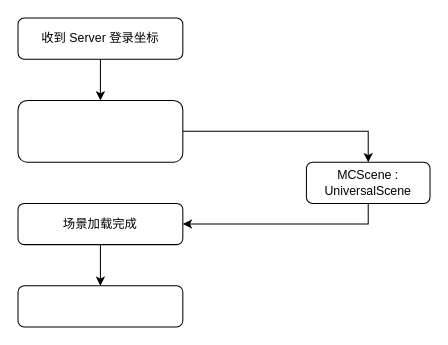
Some shapes in this 448 by 345 pixel diagram are drawn without their labels. The shapes that lost their labels are listed below. From the top down, each one's centre as x and y in pixels, then its label:
(x=100, y=130): 开始加载场景 UniversalSceneManager. CreateScene<MCScene>
(x=100, y=306): Loading Progress 85% 请求主角入场
